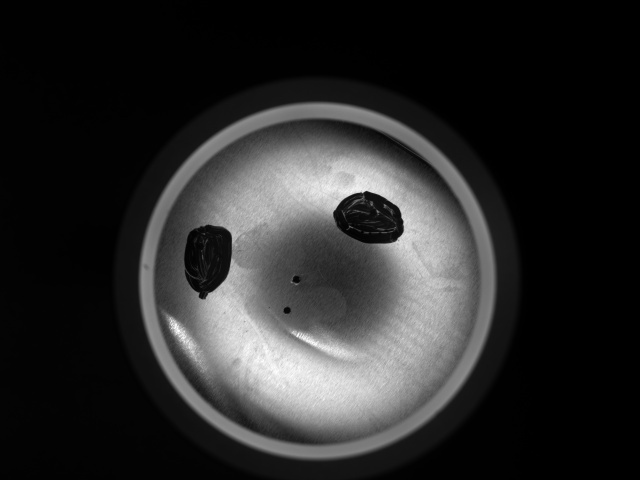zang_wu: (330, 191, 406, 247), (183, 223, 235, 301)
zhen_kong: (290, 272, 303, 288), (282, 304, 292, 316)
